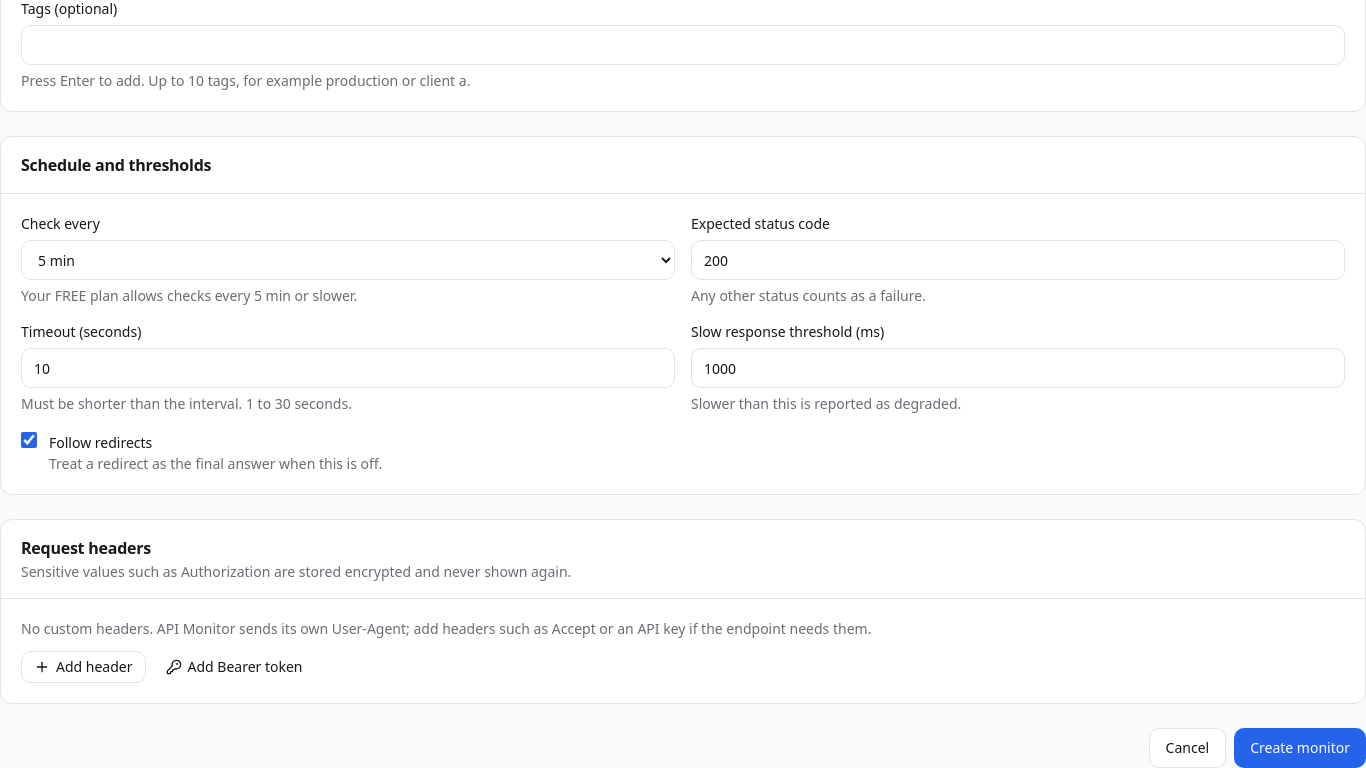
Test: MonitorForm validation › an empty form shows what is missing, sends nothing, and moves focus to the first problem
(page scrolled)
Click the button "Create monitor". click: (1300, 748)
box: [1234, 728, 1365, 767]
(page scrolled)
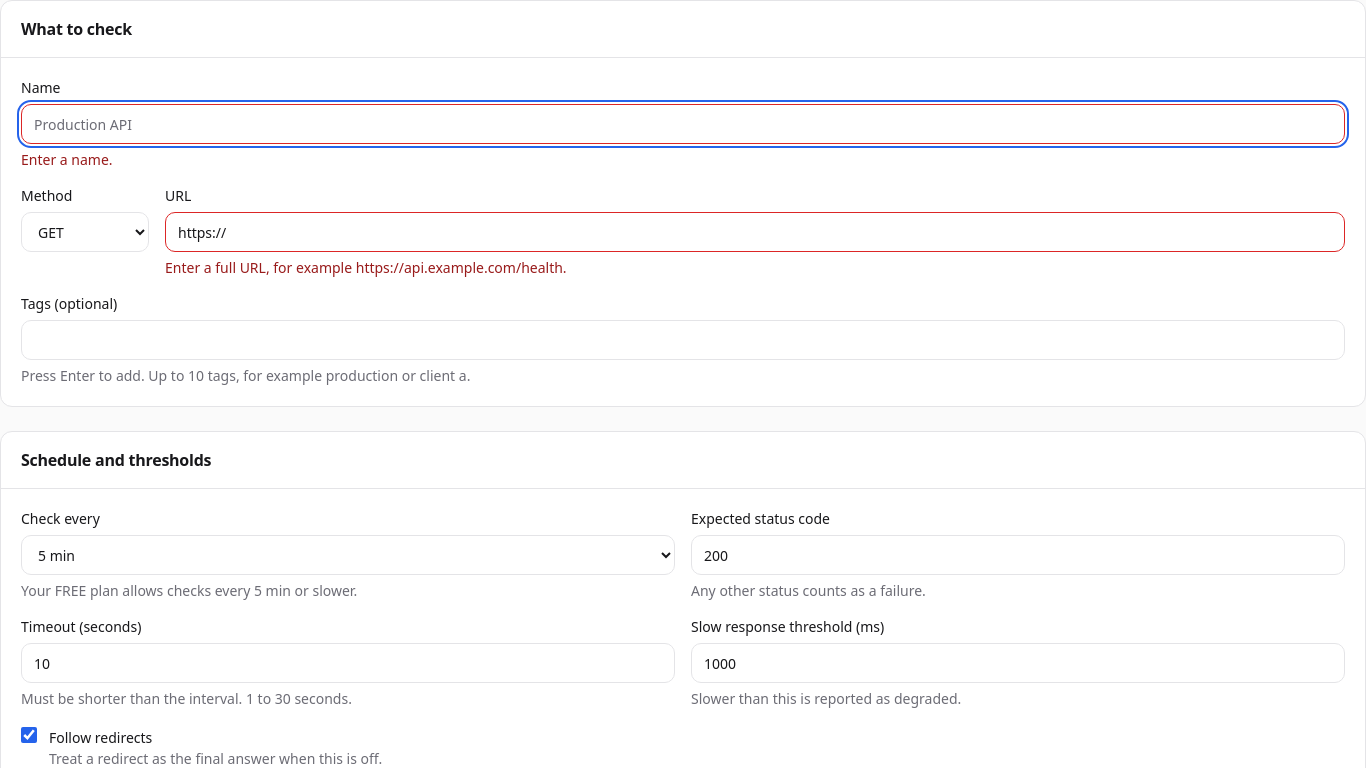
Expected: the text "Enter a name." is shown, [21, 150, 112, 169]
